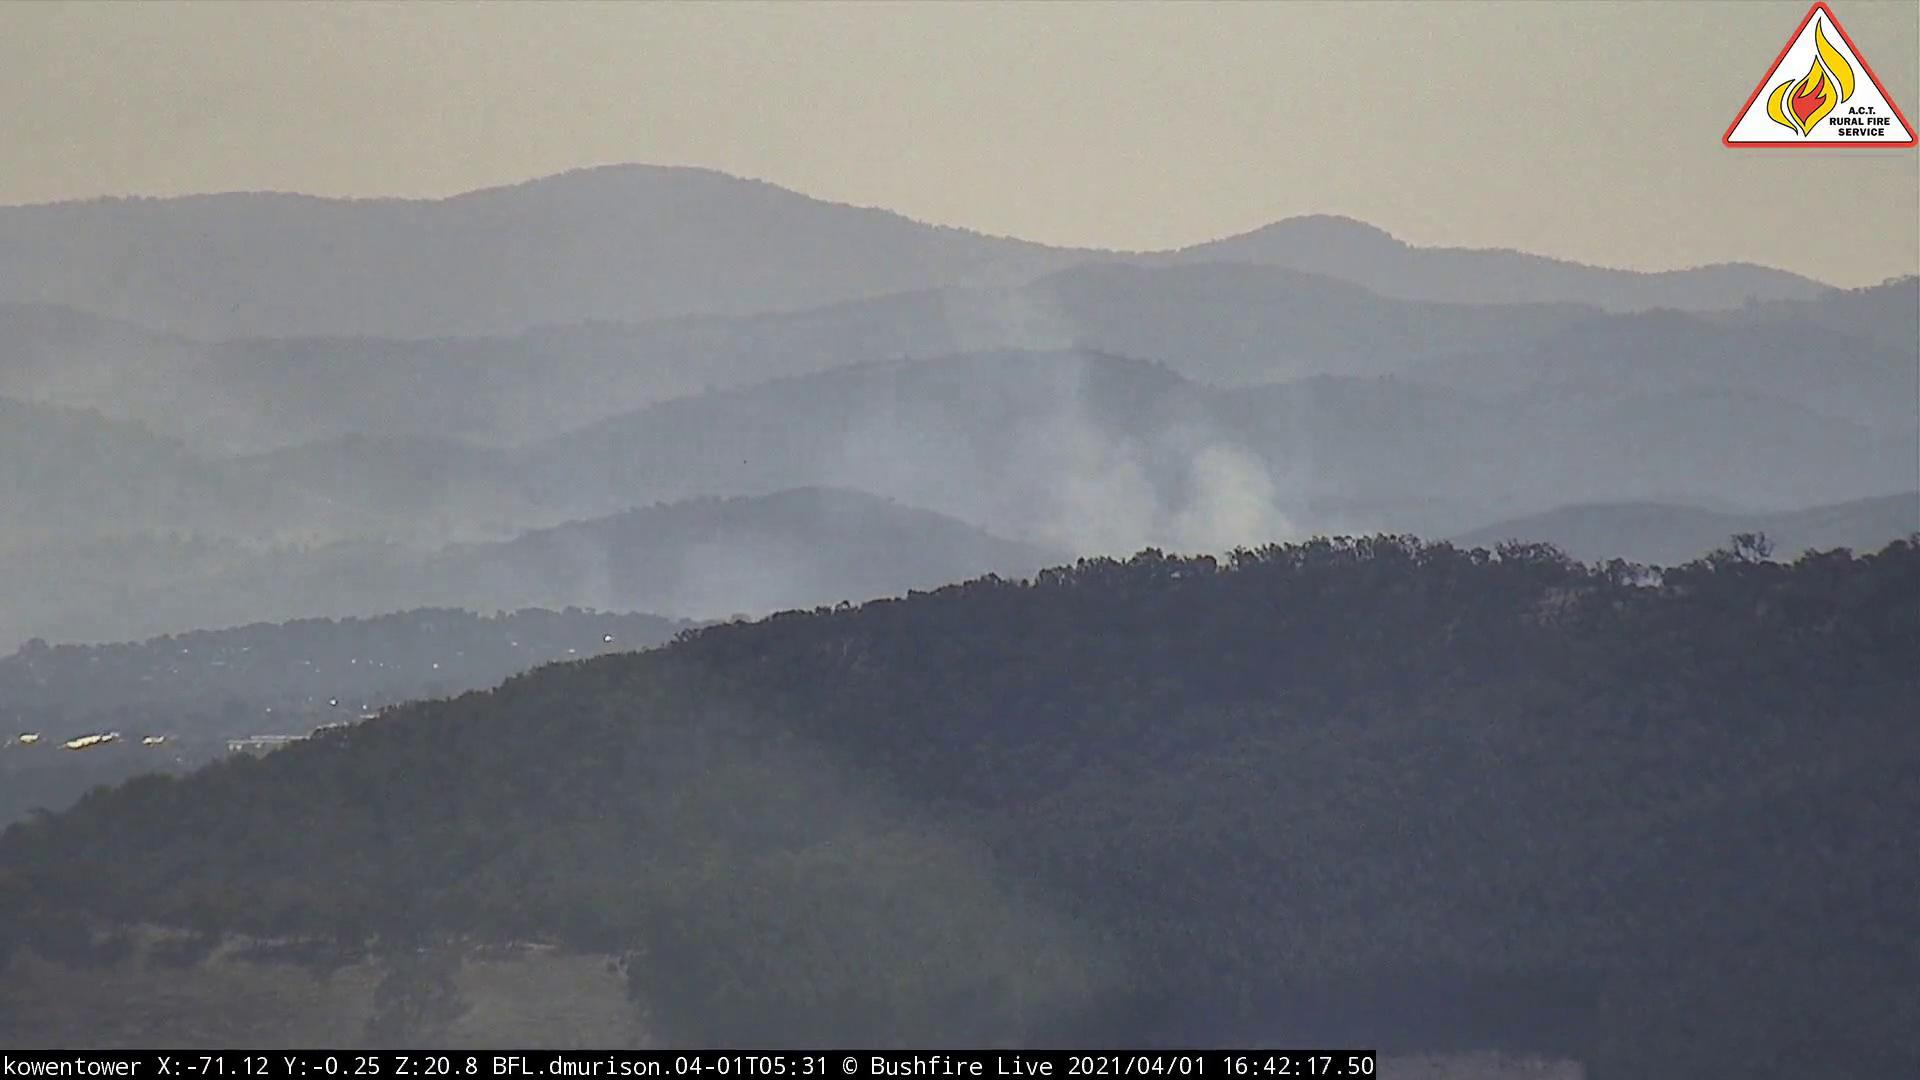Smoke: (472, 220, 1353, 676)
